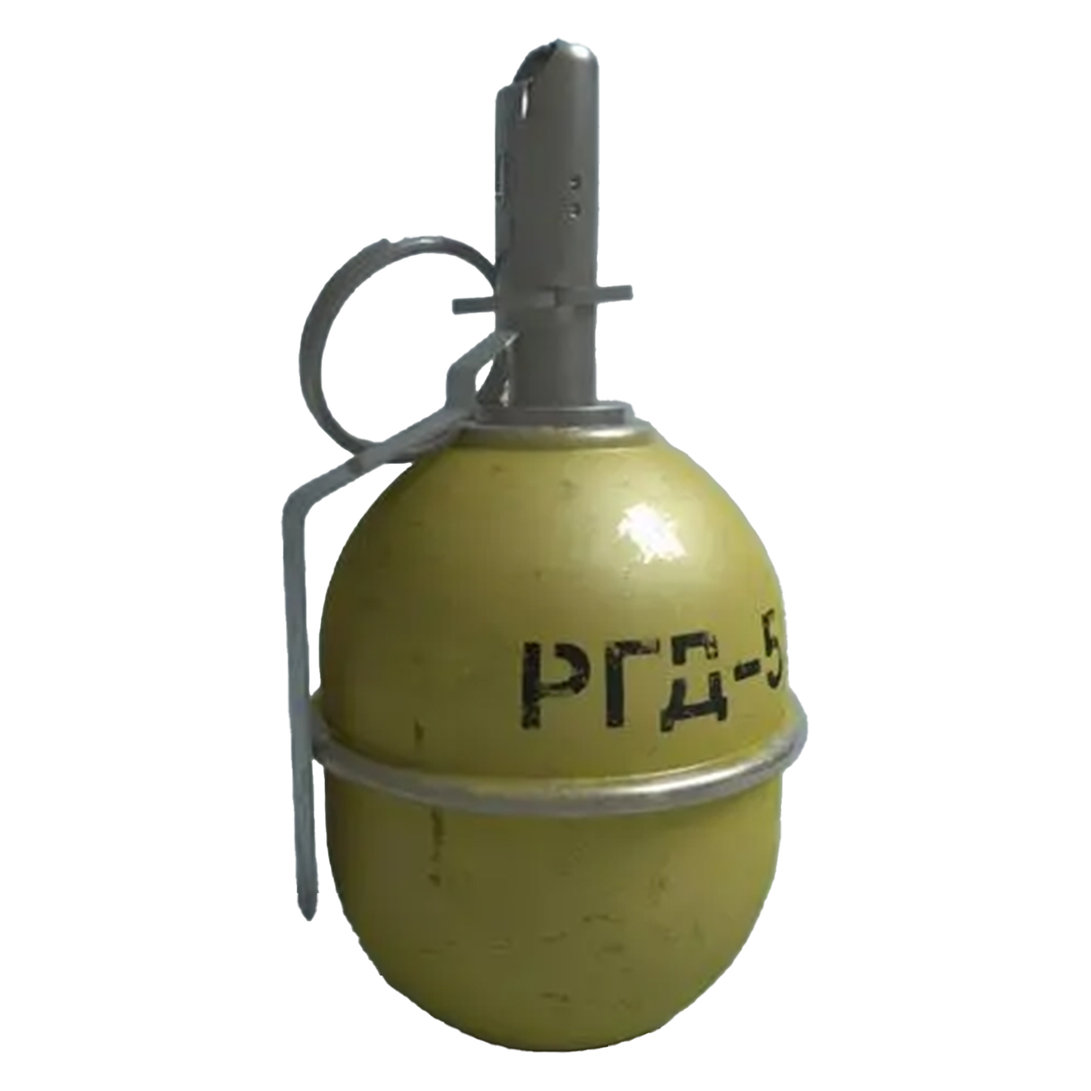mine: (514, 638, 598, 730)
